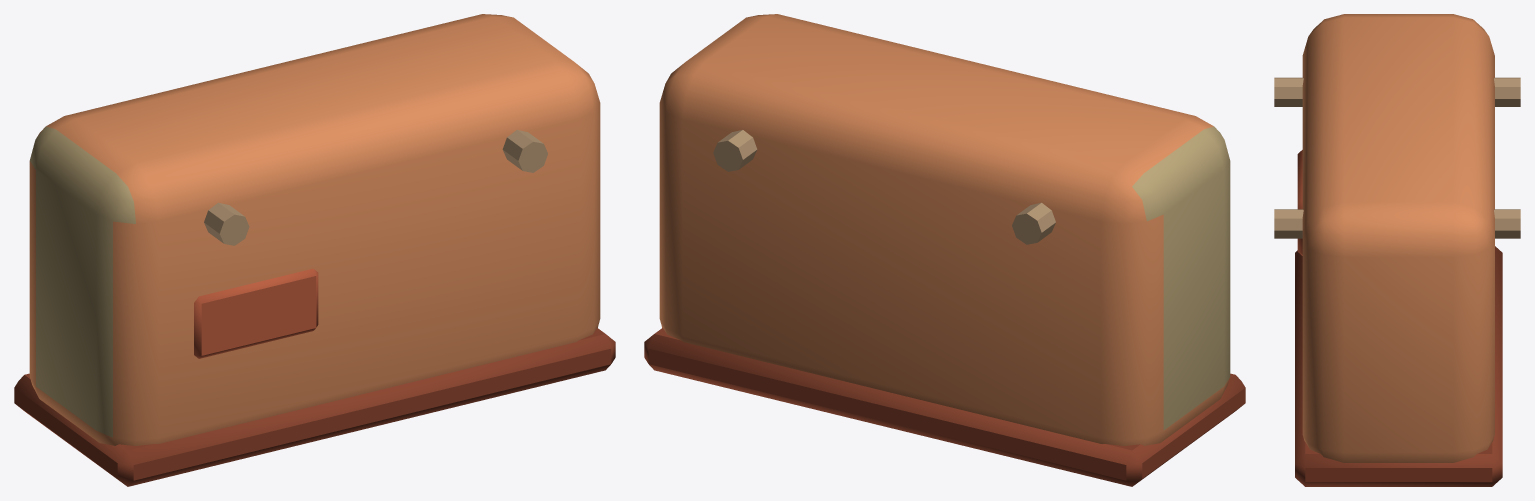
The model's file is Wall_Canyon.fbx.
The picture shows the model from 3 angles, left to right: view 1: azimuth 30°, elevation 25°; view 2: azimuth 150°, elevation 25°; view 3: azimuth 270°, elevation 25°; orthographic projection. The views are drawn at different scales.
Parts seen in each view (by area): view 1: Wall_Canyon; view 2: Wall_Canyon; view 3: Wall_Canyon.
Boxes of the visible parts, x1,y1,x2,y2 form: Wall_Canyon: (14, 14, 615, 486); Wall_Canyon: (644, 14, 1245, 486); Wall_Canyon: (1274, 14, 1520, 486).
Size of the model in its own units: 2 by 1.15 by 0.95.
